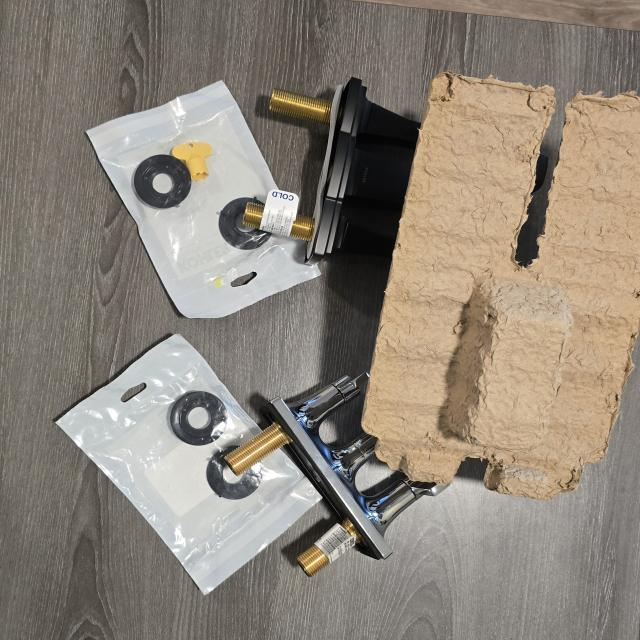10o: (226, 373, 446, 576)
12o: (86, 81, 320, 318)
13o: (55, 335, 321, 594)
9o: (243, 78, 419, 261)
